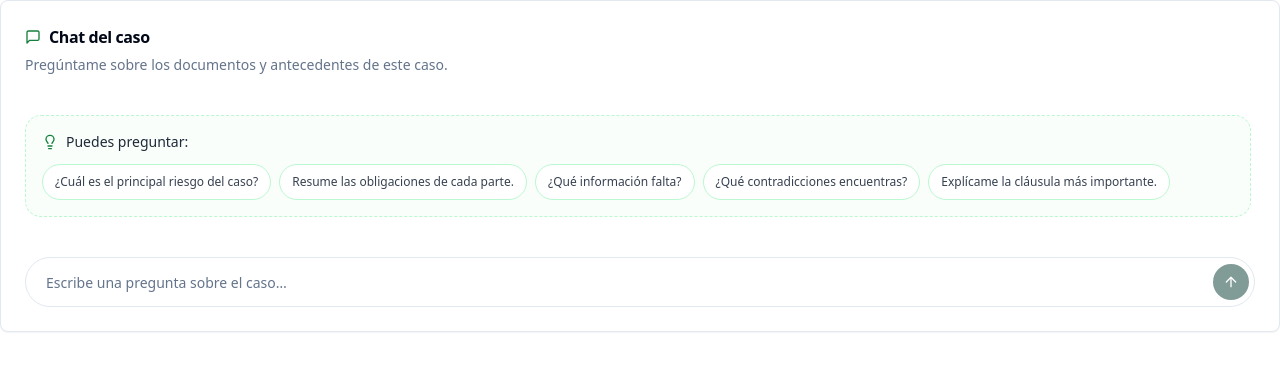
Test case: shared chat request lifecycle › fast success and broken analytics cannot hold the request pending
In the field named "Pregunta para el asistente del caso": [640, 282] box [25,257,1255,307], type "Pregunta A"
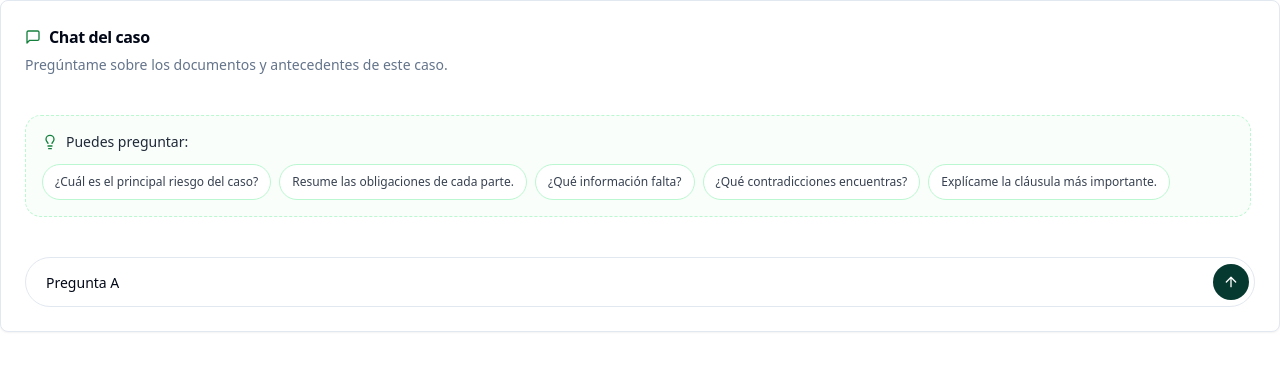
Click the button named "Enviar pregunta": [1231, 282] box [1213,264,1249,300]
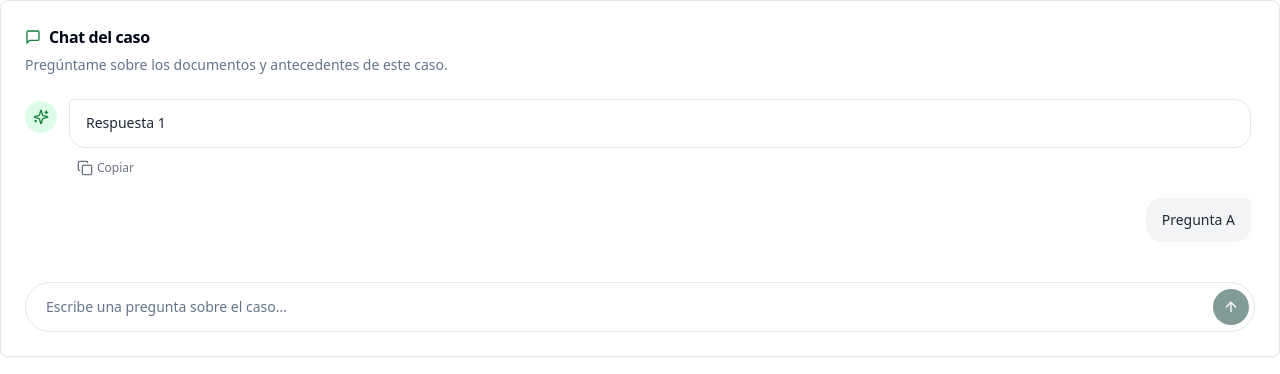
Expected: the field named "Pregunta para el asistente del caso" is enabled, [25,282,1255,332]
Result: the text "Respuesta 1" is shown at [86,113,166,132]
